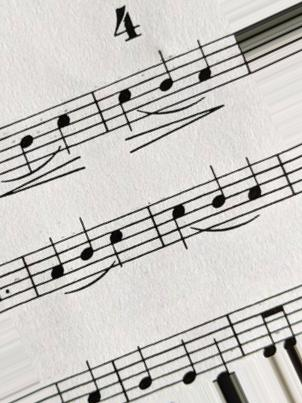note: (237, 159, 270, 218), (38, 239, 74, 292), (76, 359, 120, 402), (202, 163, 232, 225), (112, 75, 143, 131), (129, 344, 160, 398), (71, 218, 100, 275), (152, 49, 179, 109), (173, 331, 201, 387), (13, 115, 40, 172), (190, 41, 218, 95), (167, 194, 191, 255), (104, 215, 129, 273), (49, 105, 75, 156)
